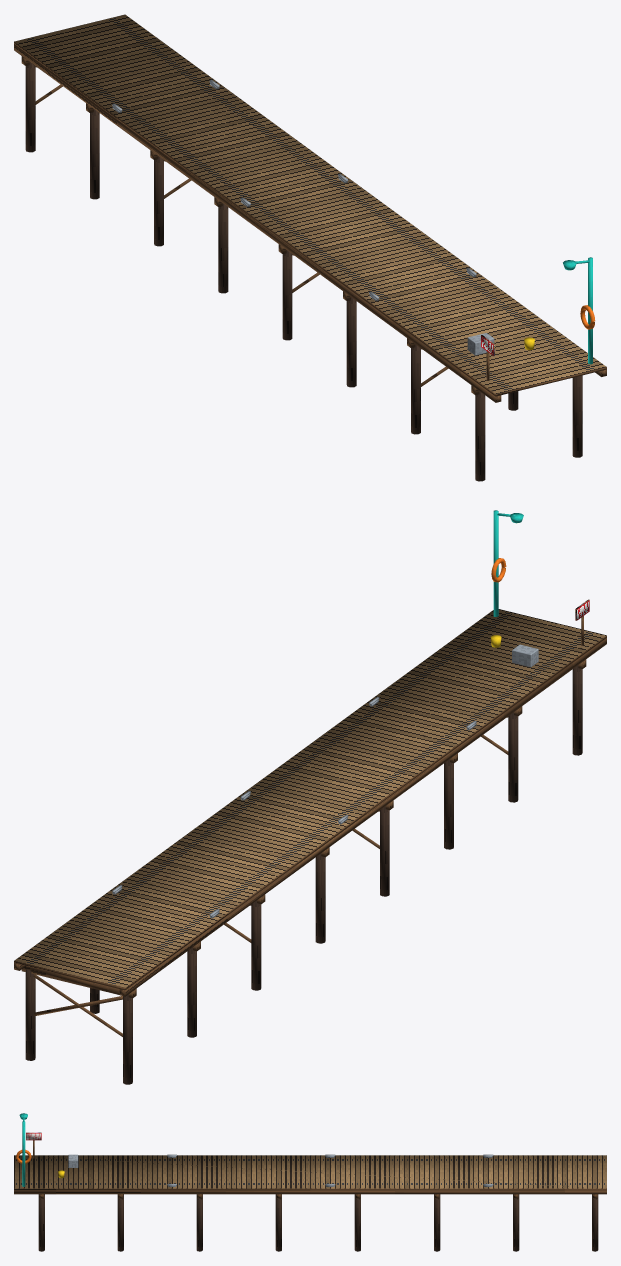
File: p_pj_pier.glb
3 views of the same model, one above another, from view 1: azimuth 30°, elevation 25°; view 2: azimuth 150°, elevation 25°; view 3: azimuth 270°, elevation 25° (orthographic). The views are drawn at different scales.
Parts seen in each view (by area): view 1: p_pj_pier_lod0; view 2: p_pj_pier_lod0; view 3: p_pj_pier_lod0.
Part boxes in pixels (x1,y1,x2,y2): p_pj_pier_lod0: (14,14,606,481); p_pj_pier_lod0: (14,510,606,1084); p_pj_pier_lod0: (14,1113,606,1251).
Size of what is drawn, in the model's own units: 4 by 7.18 by 30.
Materials: 2 (1 with a texture image).
